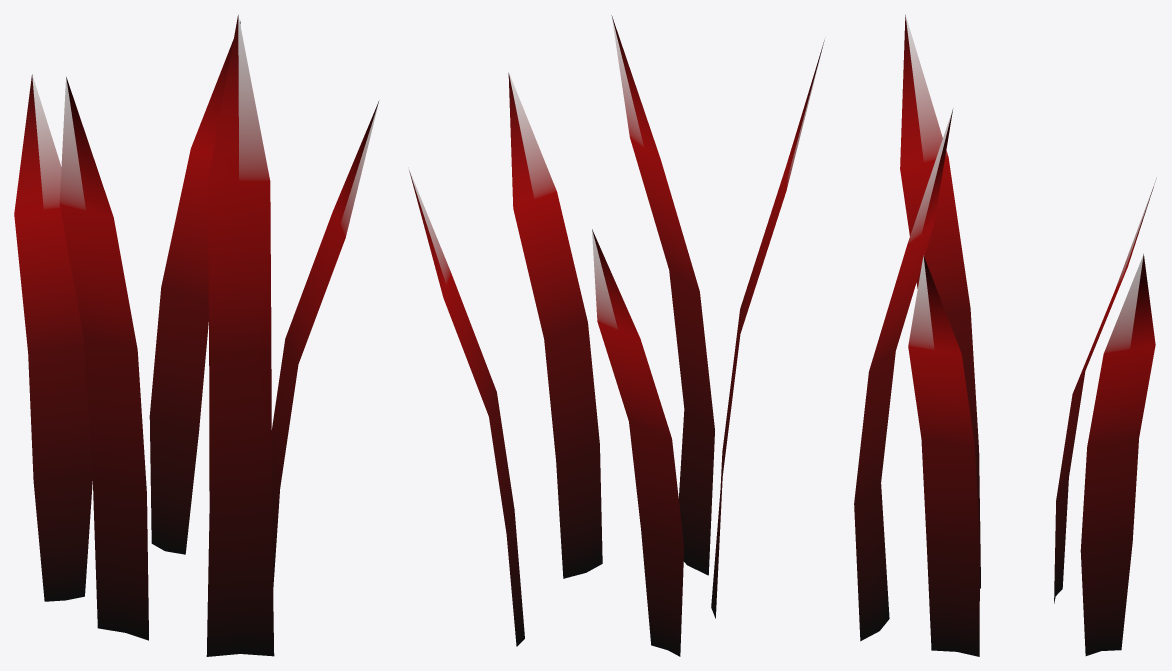
File: grass.fbx
3 views of the same model, side by side, from view 1: azimuth 30°, elevation 25°; view 2: azimuth 150°, elevation 25°; view 3: azimuth 270°, elevation 25° (orthographic). The views are drawn at different scales.
Visible parts, largest first — view 1: grass; view 2: grass; view 3: grass.
Boxes of the visible parts, x1,y1,x2,y2 form: grass: (14, 15, 379, 656); grass: (408, 15, 824, 656); grass: (854, 14, 1156, 656).
Size of the model in its own units: 113 by 202 by 102.
